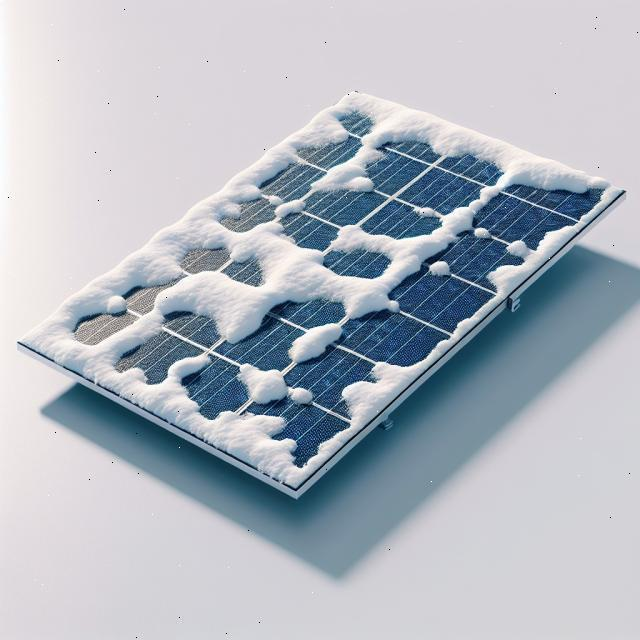Anomaly Solar Panel: (15, 0, 625, 561)
Snow: (16, 0, 609, 548), (231, 359, 316, 413), (281, 313, 346, 370), (262, 193, 306, 222), (425, 257, 450, 279), (469, 223, 492, 245)
